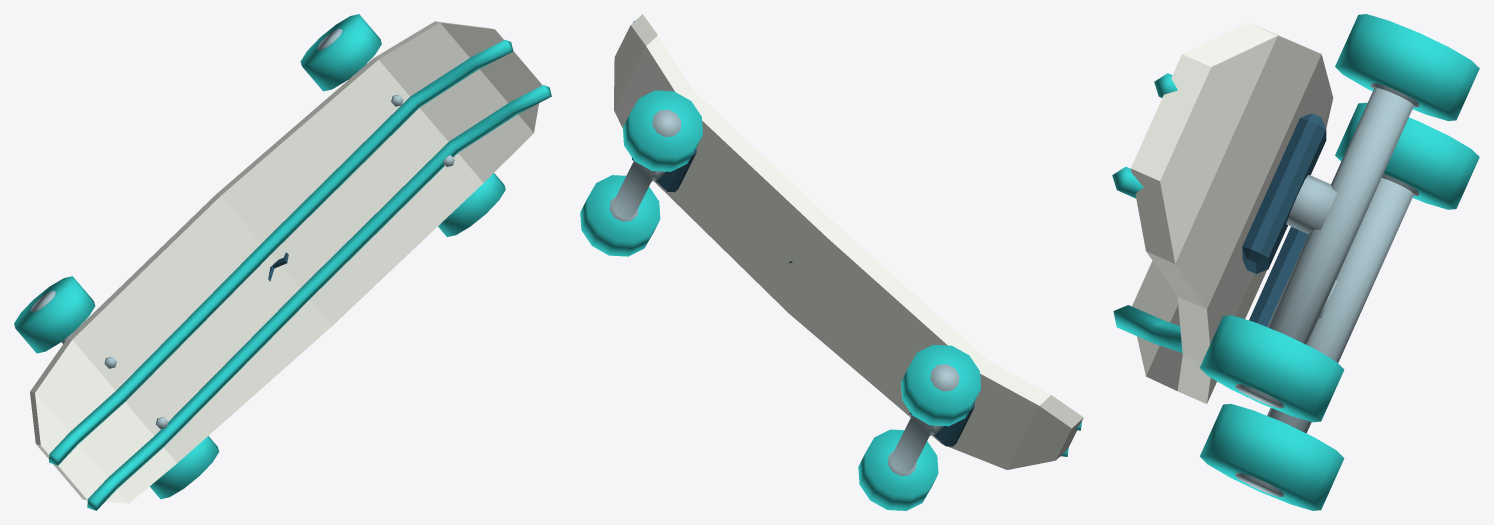
The model's file is board.glb.
3 renders of one model, left to right at view 1: azimuth 30°, elevation 25°; view 2: azimuth 150°, elevation 25°; view 3: azimuth 270°, elevation 25°, orthographic. The views are drawn at different scales.
Visible parts, largest first — view 1: Coastal club | board; view 2: Coastal club | board; view 3: Coastal club | board.
Boxes of the visible parts, bbox=[...] form: Coastal club | board: bbox=[14, 14, 551, 510]; Coastal club | board: bbox=[580, 14, 1083, 510]; Coastal club | board: bbox=[1112, 14, 1479, 510].
Bounding box in the file's own units: 0.8411 × 0.6767 × 0.3206.
